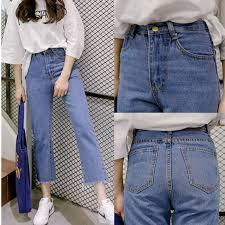Tshirt: (0, 1, 88, 71)
pants: (16, 50, 108, 190), (114, 15, 225, 113), (121, 125, 216, 225)
